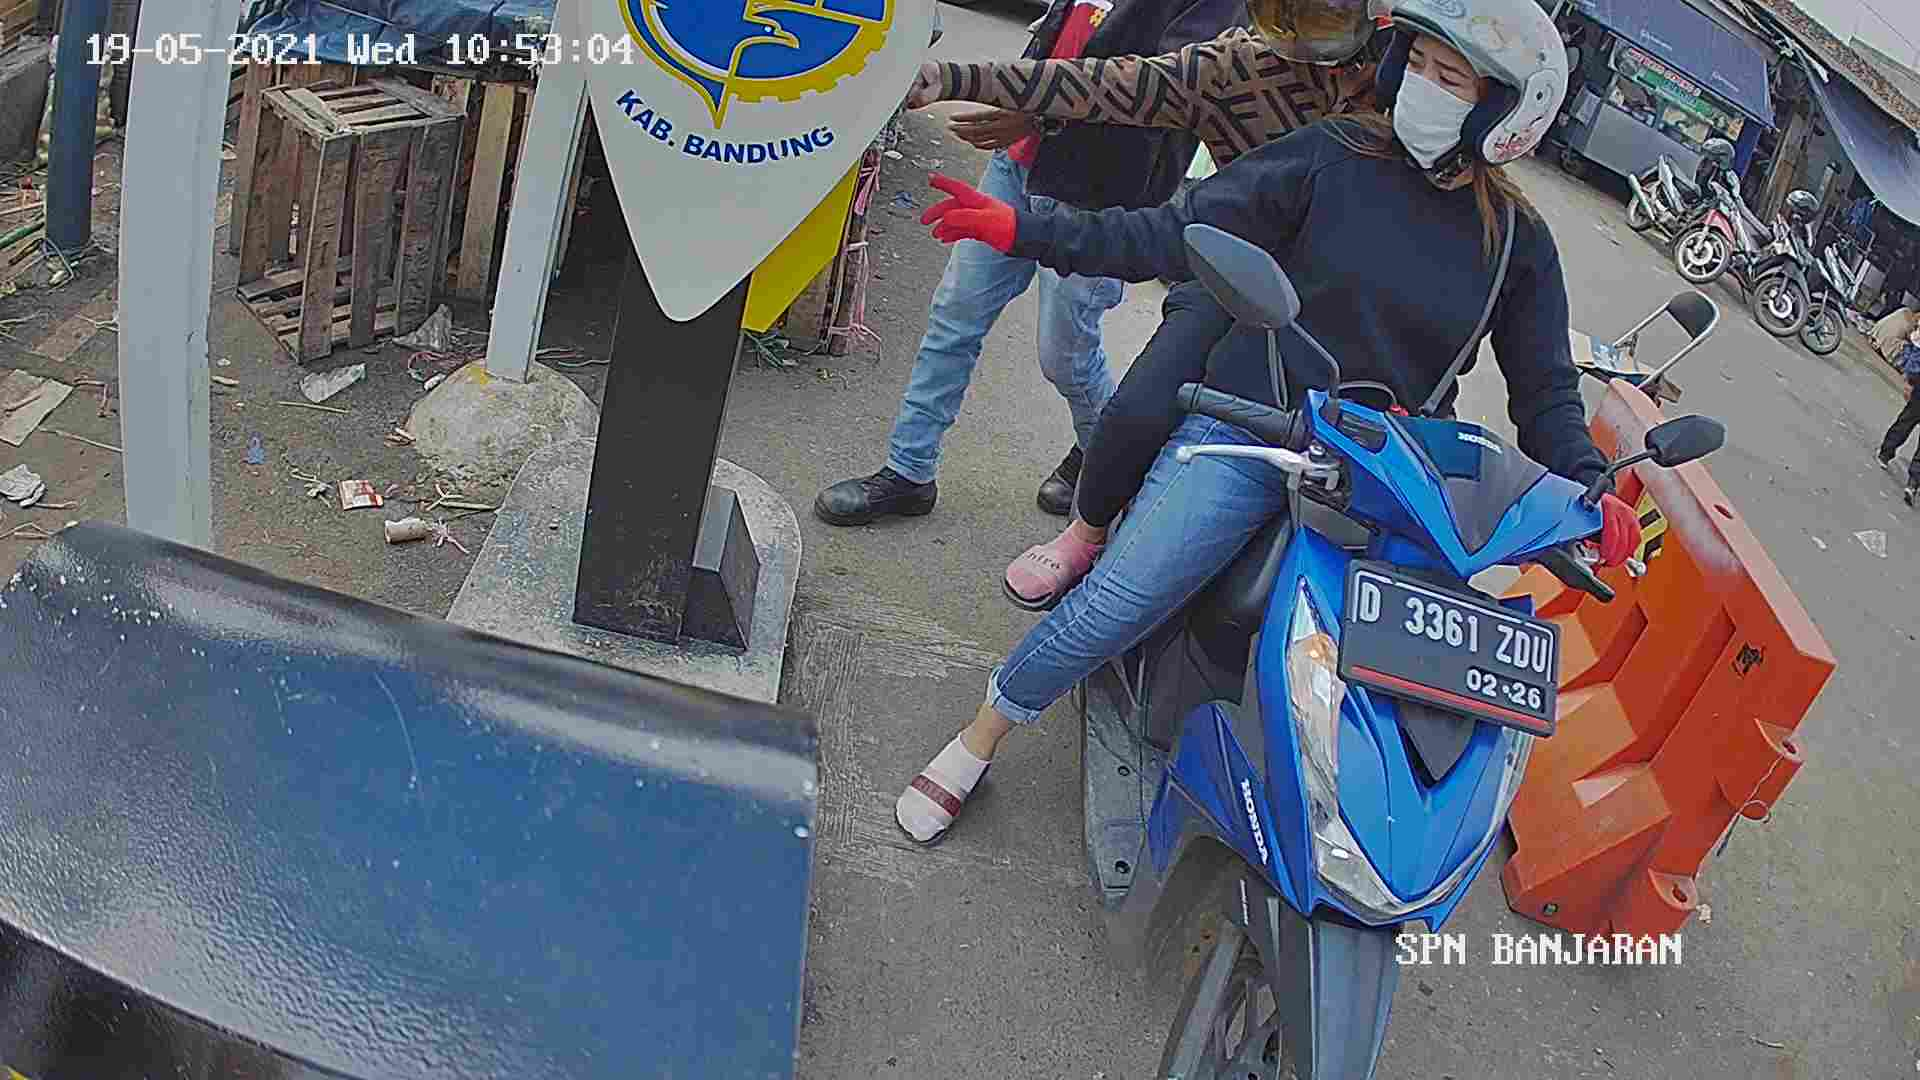motor: (1127, 353, 1607, 1080)
